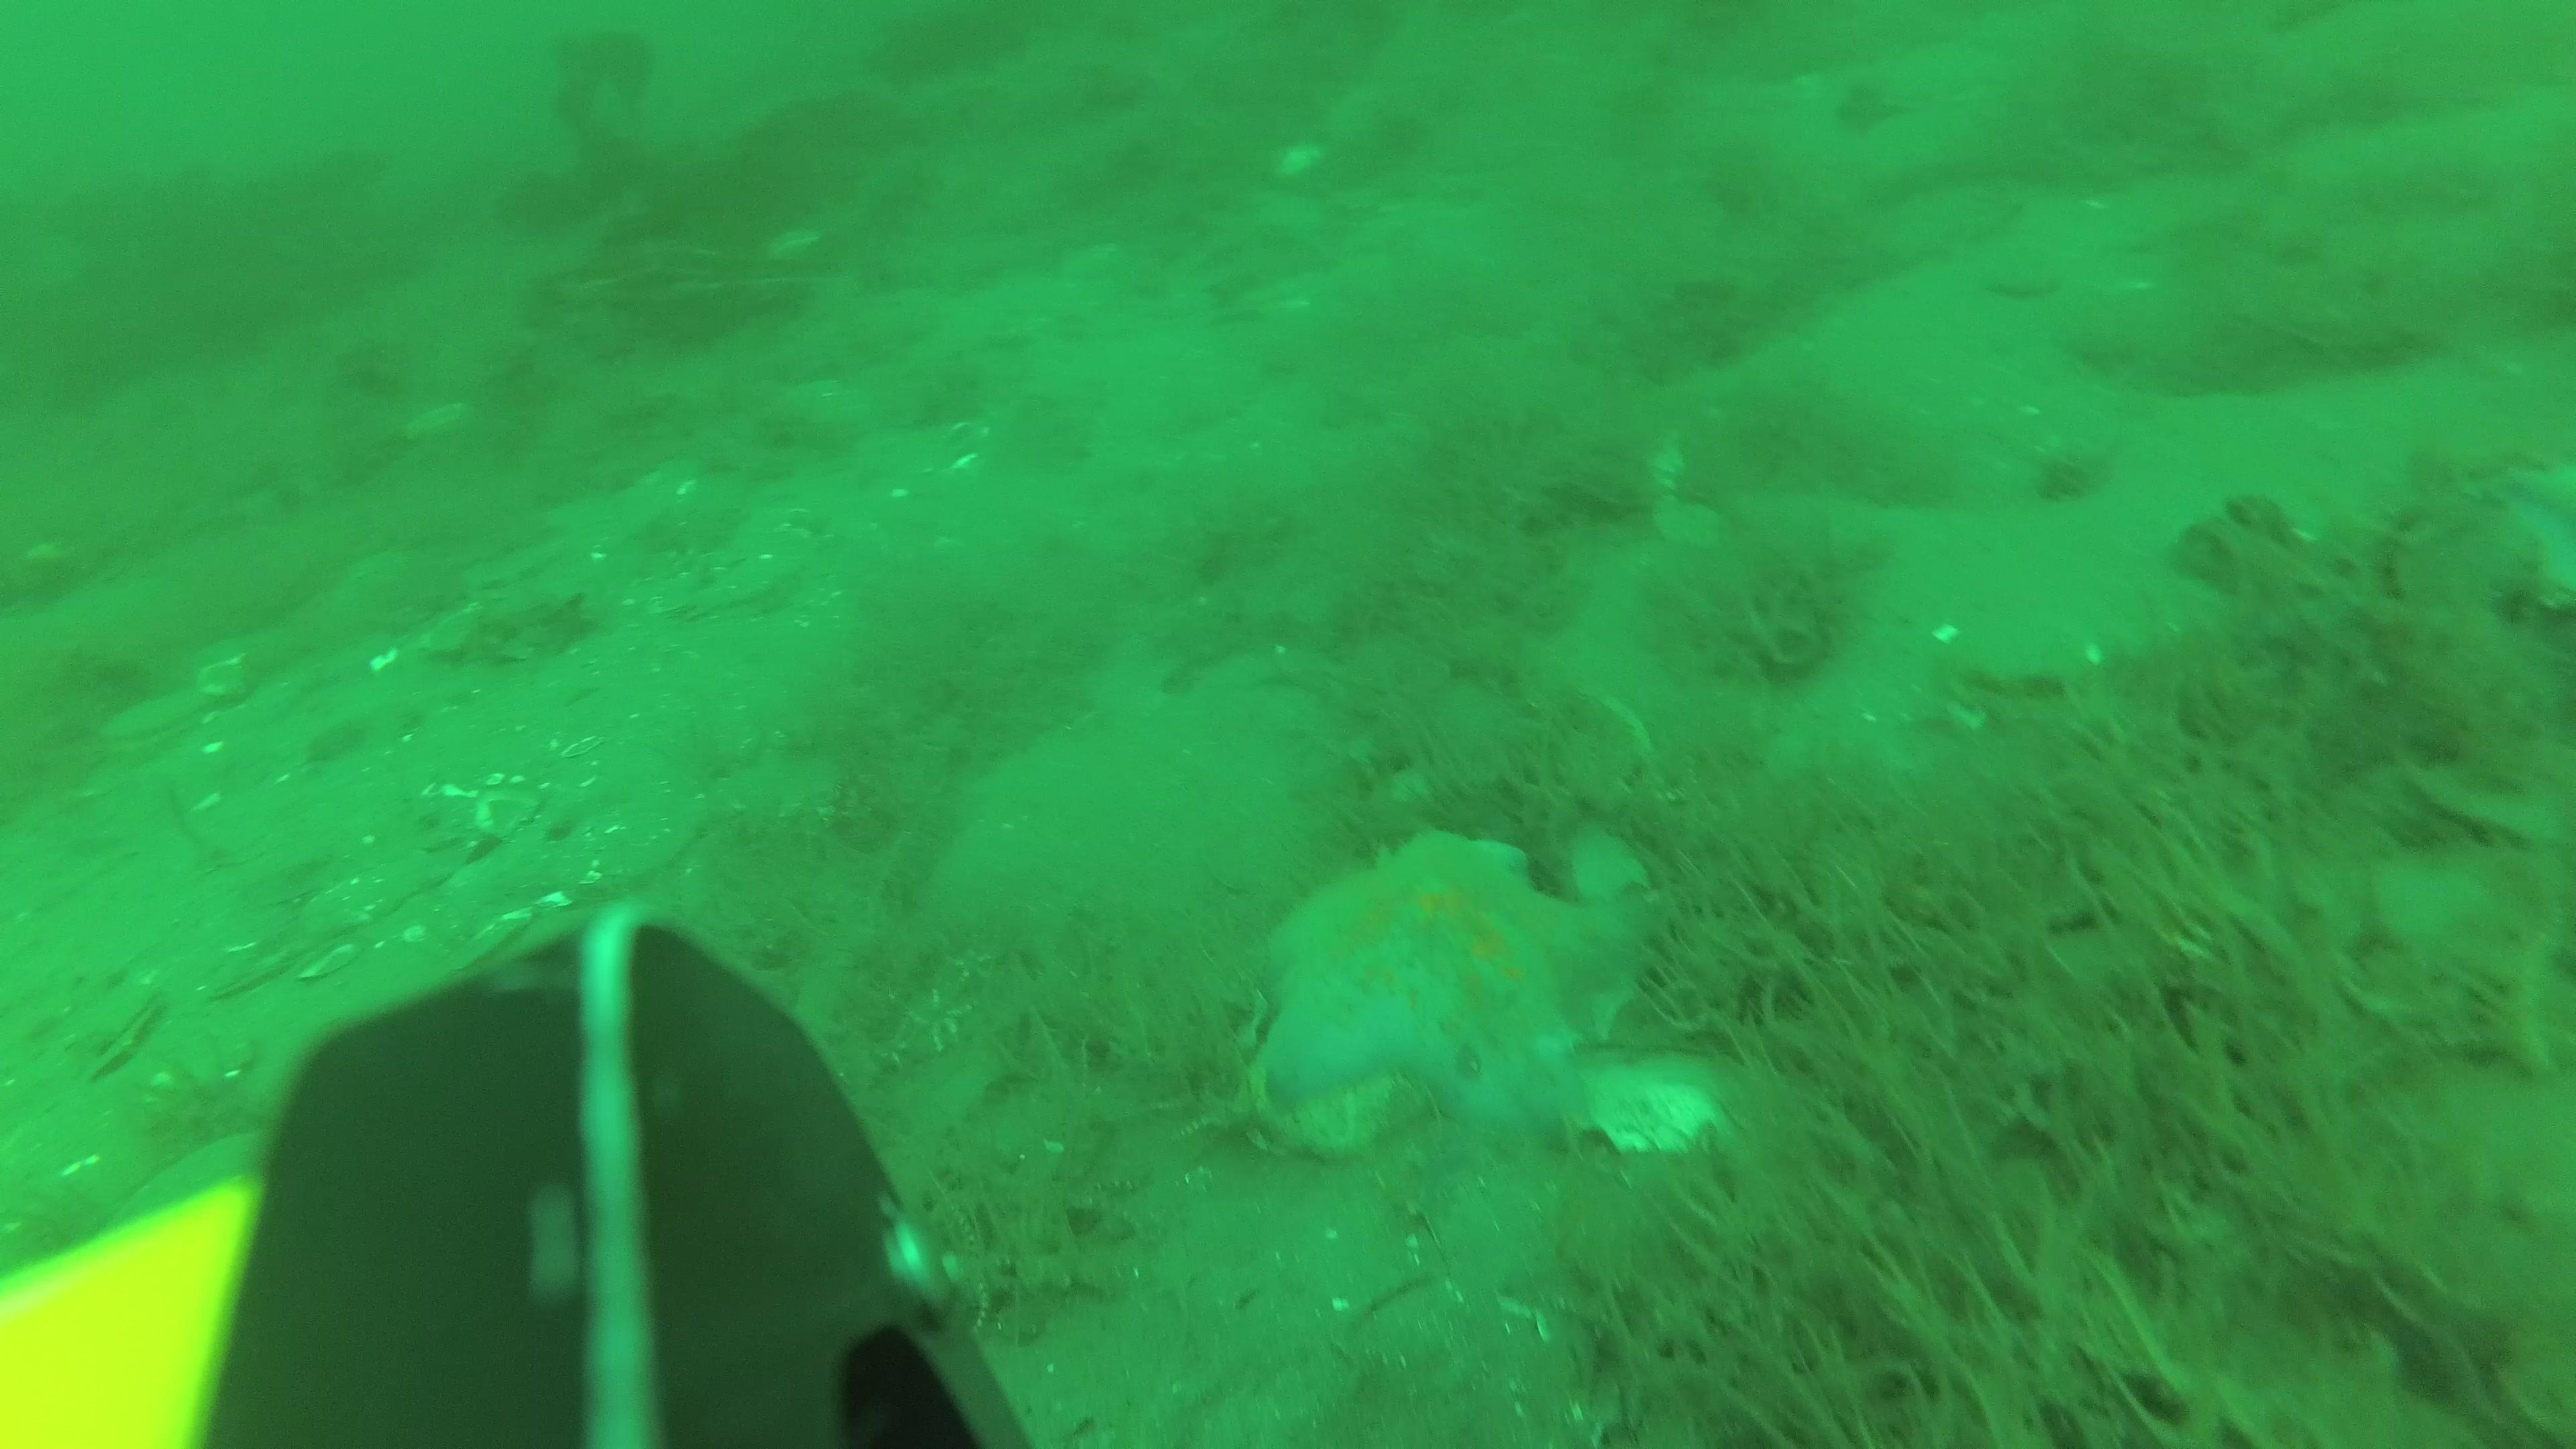scallop: (85, 989, 159, 1070), (96, 695, 209, 743), (216, 934, 304, 994)
starfish: (1258, 824, 1633, 1109)
